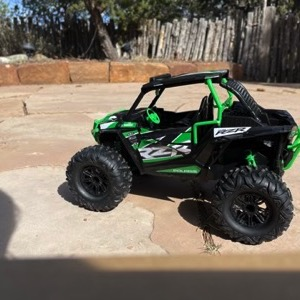polaris: (65, 67, 299, 246)
